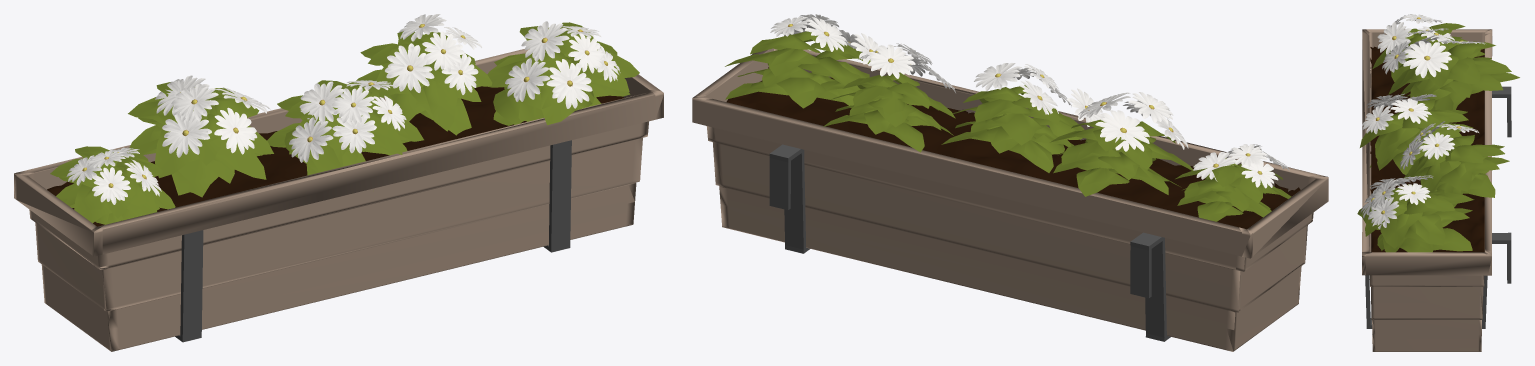
Rendered from plantero.glb.
3 views of the same model, side by side, from view 1: azimuth 30°, elevation 25°; view 2: azimuth 150°, elevation 25°; view 3: azimuth 270°, elevation 25° (orthographic). The views are drawn at different scales.
Parts seen in each view (by area): view 1: plantero; view 2: plantero; view 3: plantero.
Part boxes in pixels (x1=…): plantero: x1=14, y1=14, x2=663, y2=351; plantero: x1=692, y1=14, x2=1328, y2=351; plantero: x1=1357, y1=14, x2=1519, y2=351.
Bounding box in the file's own units: 55 × 19.4 × 16.8.
